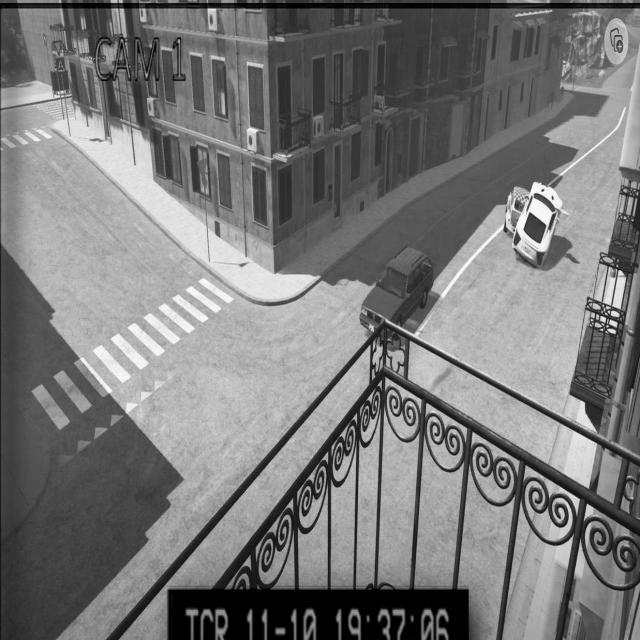accident: (502, 174, 566, 278)
vehicle: (359, 239, 435, 344)
